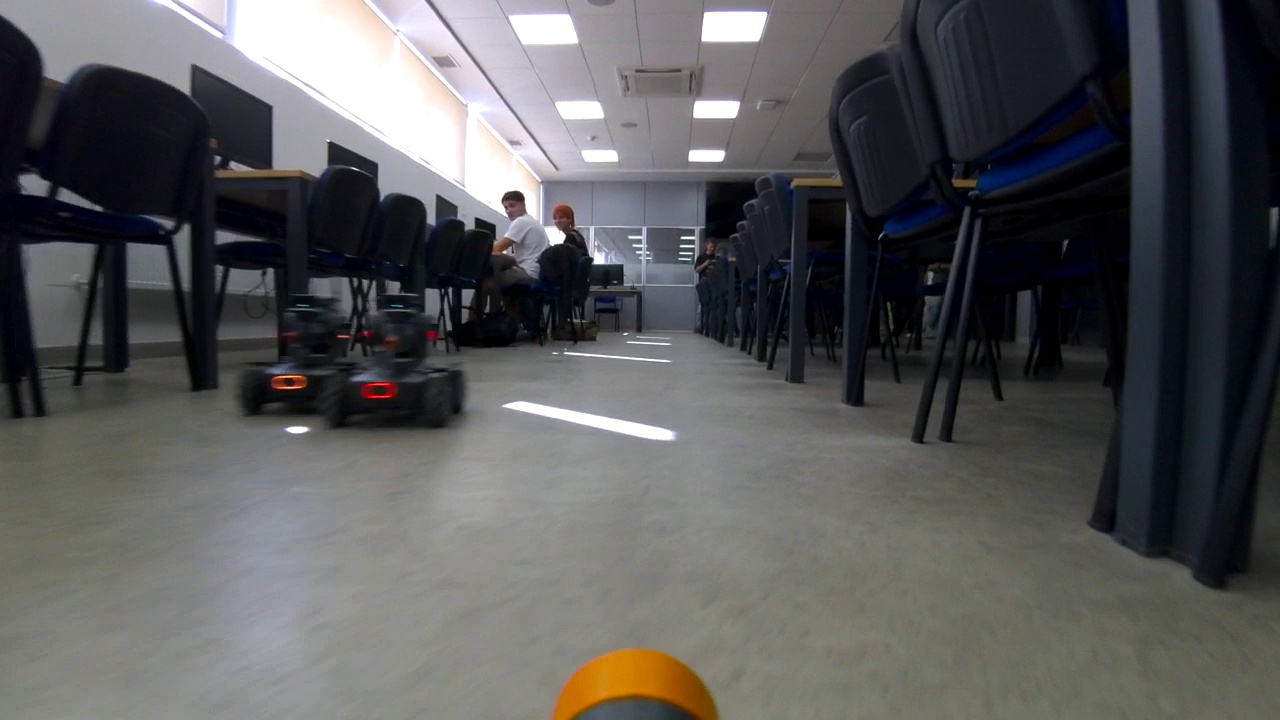robot: (325, 307, 472, 429), (238, 299, 335, 405)
